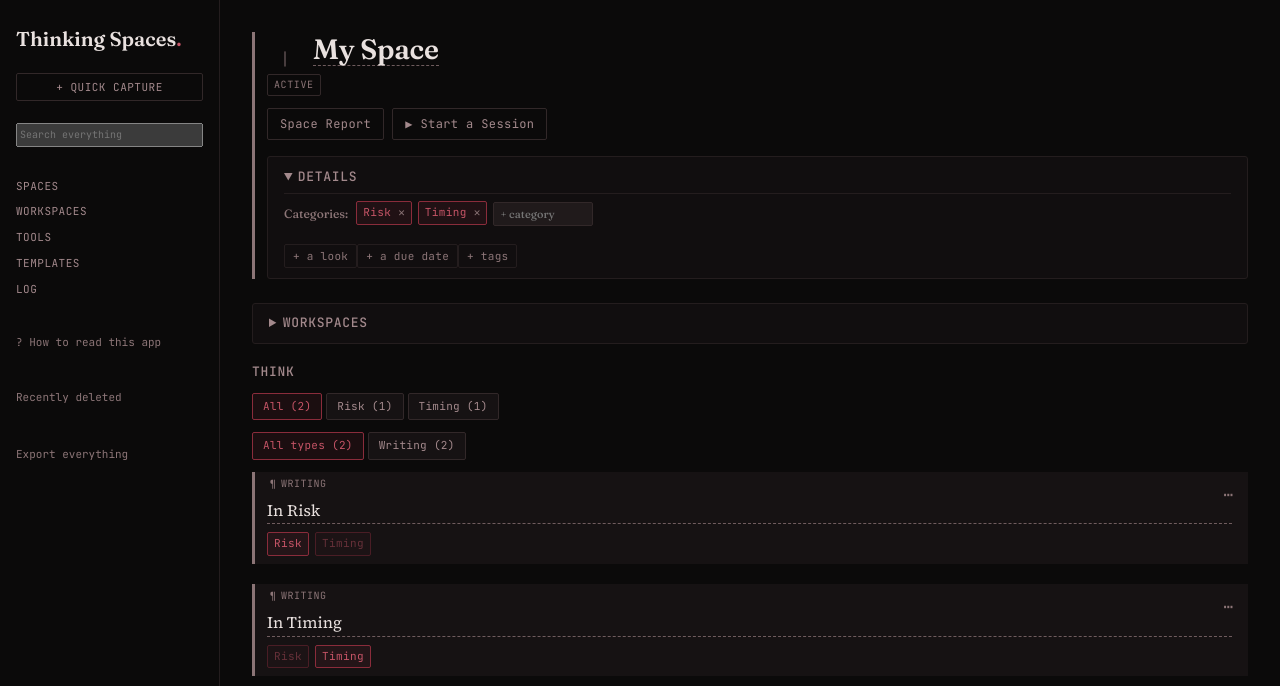
SpacePage: Categories › filters blocks by Category
The width and height of the screenshot is (1280, 686).
expect the text "In Risk" is shown: met, box [267, 498, 1232, 524]
expect the text "Timing (1)" is shown: met, box [408, 393, 498, 420]
Click the text with class "category-filter-tab" showing "Risk (1)" at (365, 406), box [326, 393, 404, 420]
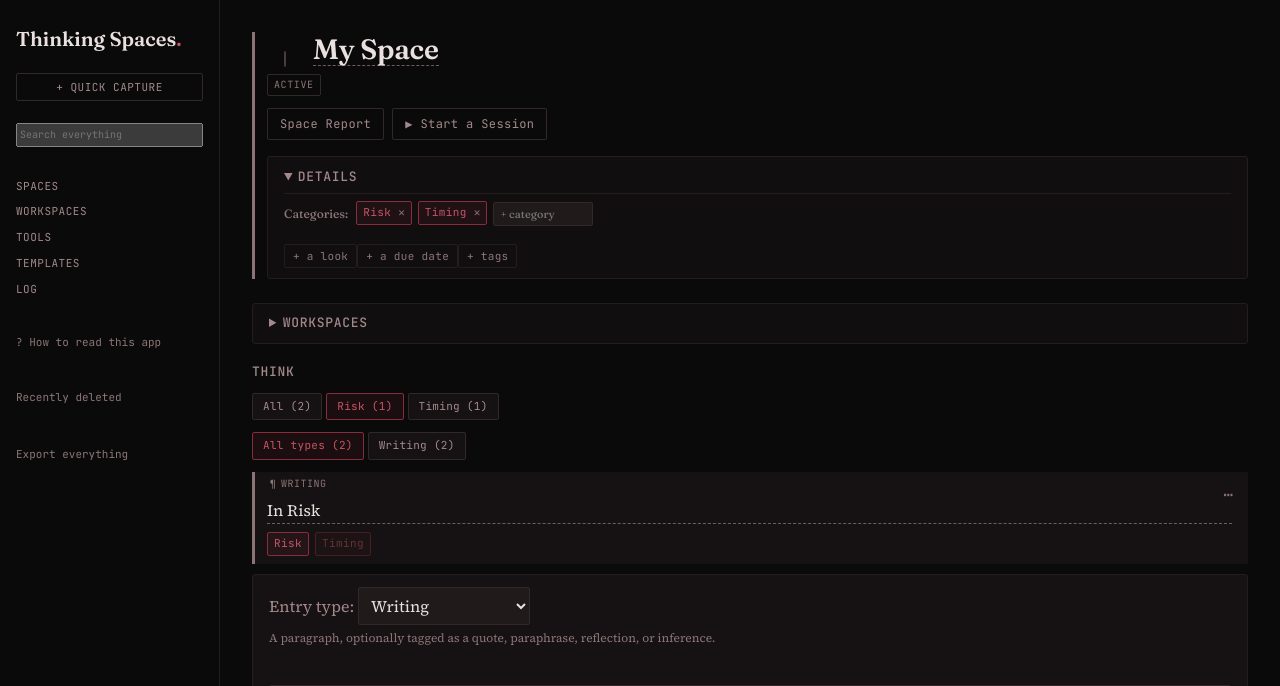
expect the text "In Risk" is shown: met, box [267, 498, 1232, 524]
expect the text "In Timing" is gone: met
Click the text with class "category-filter-tab" showing "All (2)" at (287, 406), box [252, 393, 322, 420]
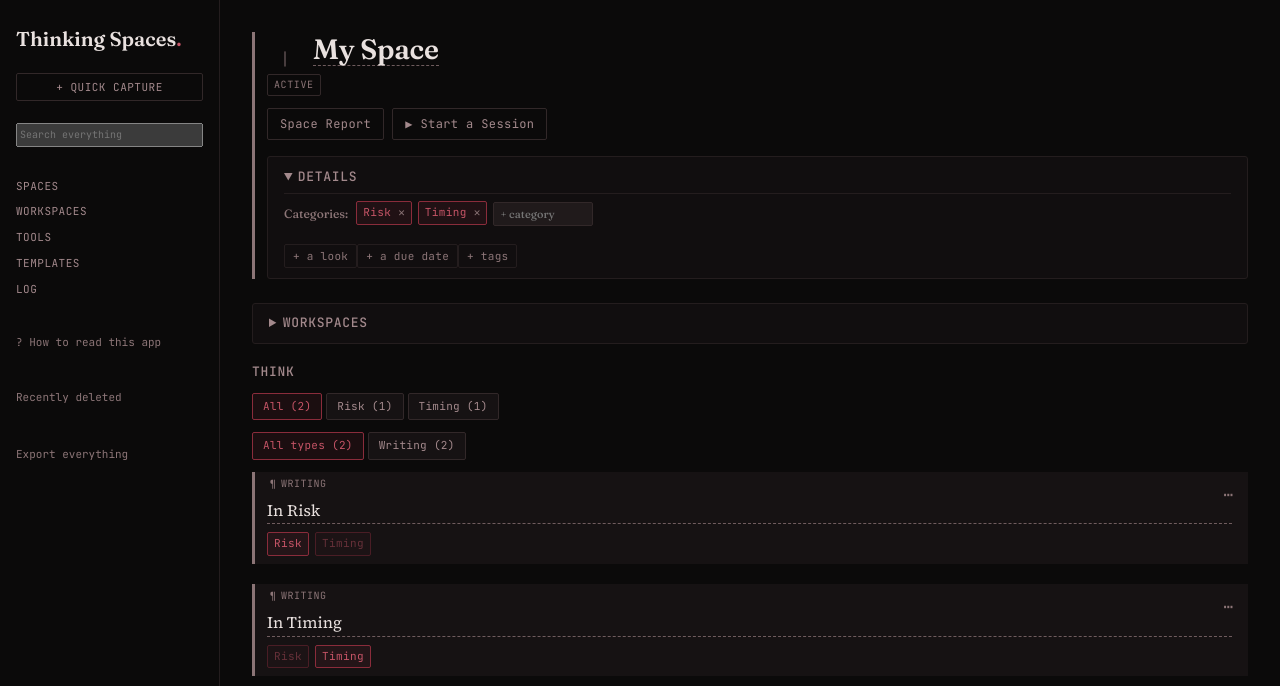
expect the text "In Timing" is shown: met, box [267, 610, 1232, 637]
